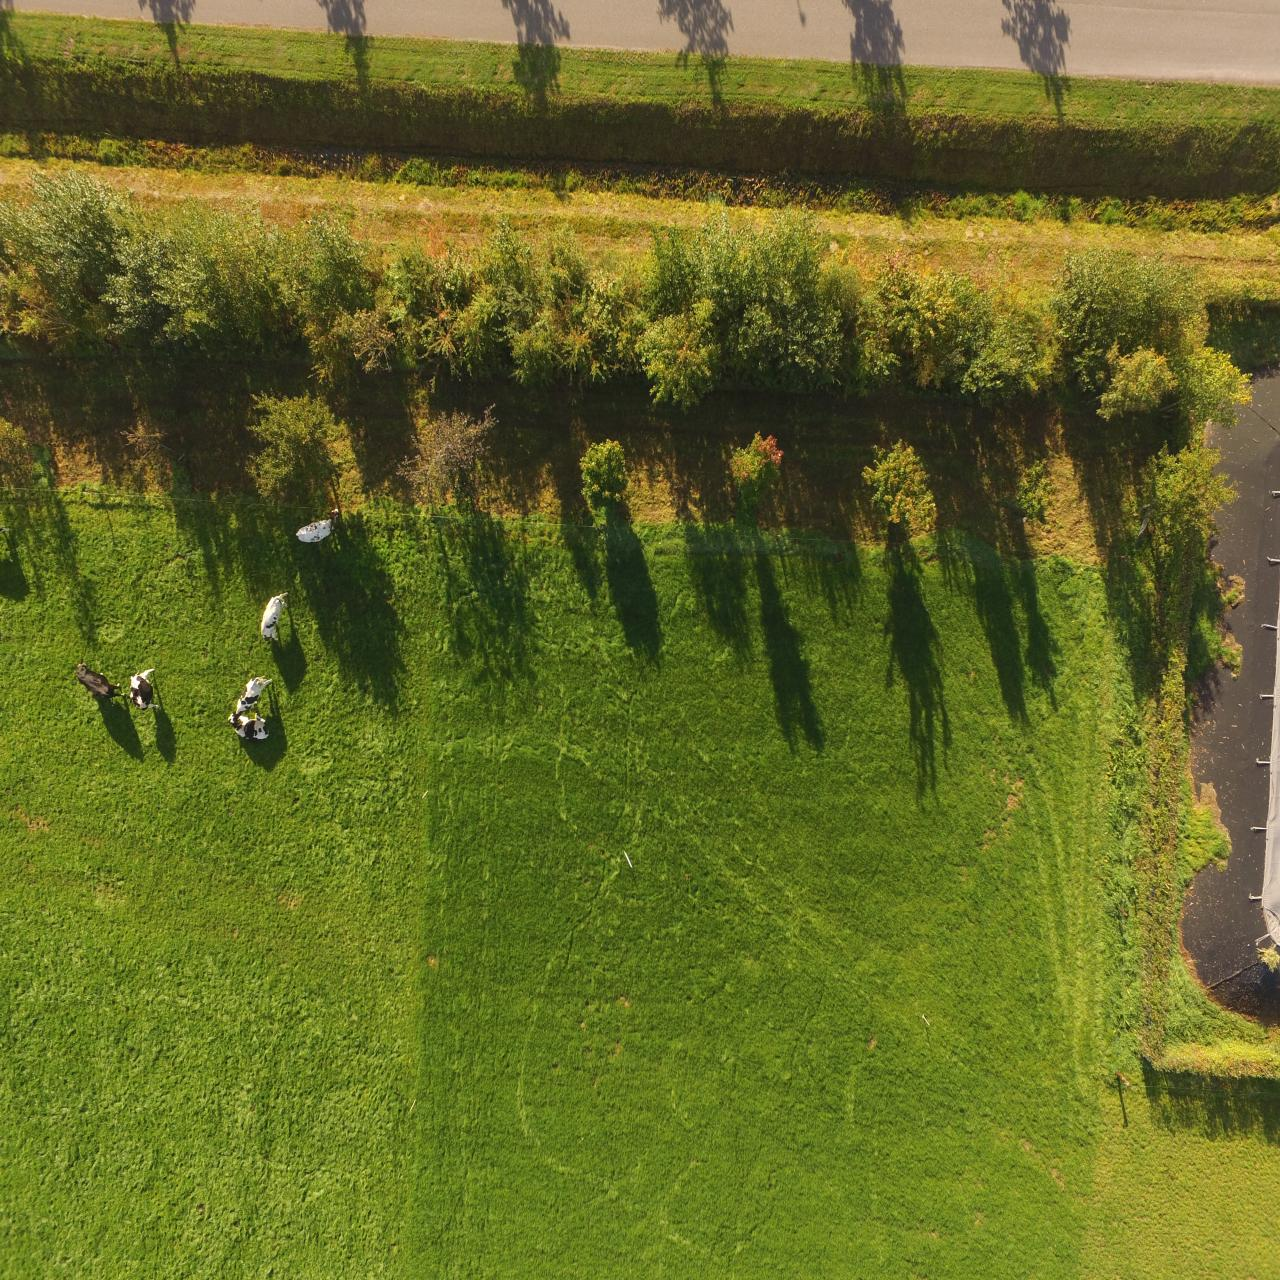cow: (72, 662, 124, 707), (293, 510, 346, 549), (260, 587, 290, 644), (128, 669, 162, 713), (236, 672, 271, 712), (225, 712, 272, 740)
